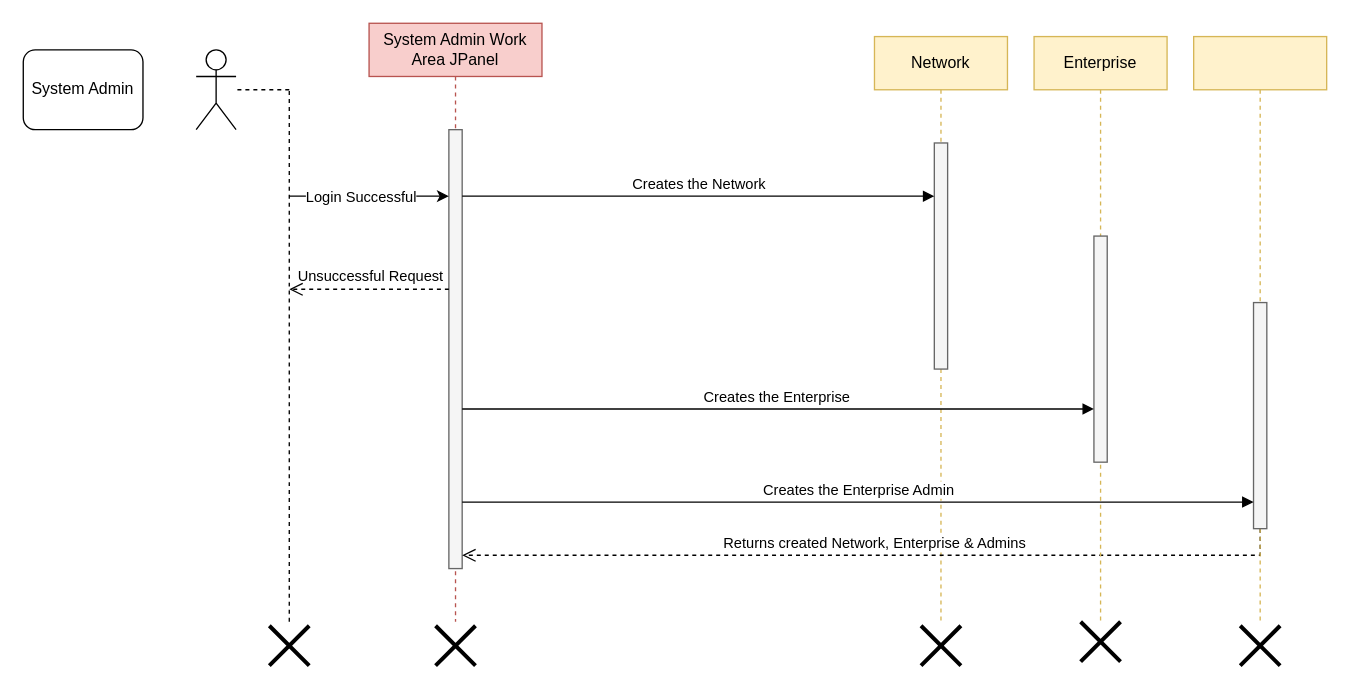
This 1350x690 diagram has some shape labels left out. Each missing label, with the centre of its shape:
Actor: [215,89]
Enterprise Admin: [1259,328]
